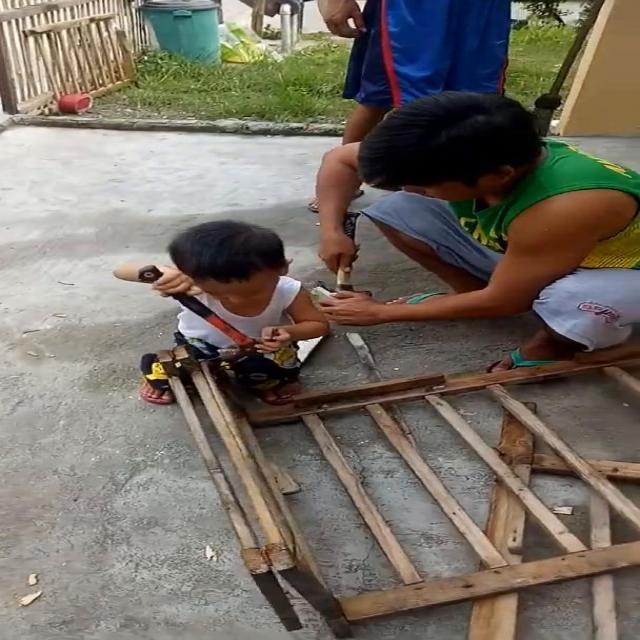hammer: (135, 264, 283, 366), (314, 207, 378, 301)
